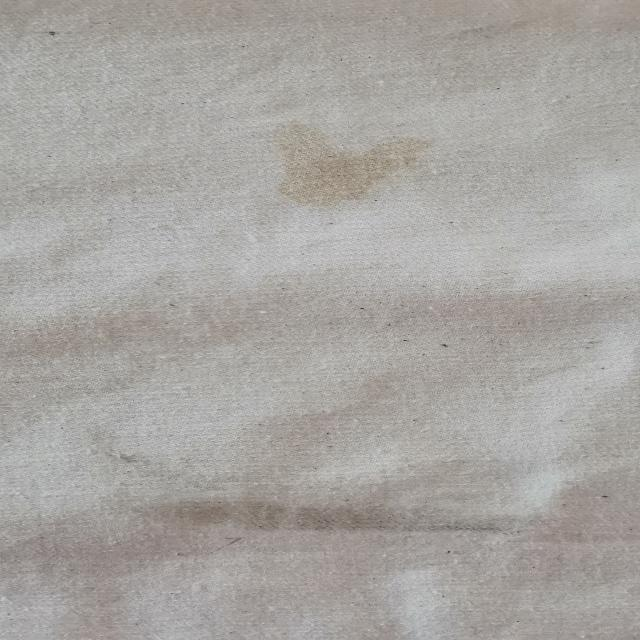taaaches: (137, 486, 568, 549), (256, 109, 455, 219), (82, 422, 161, 478)
